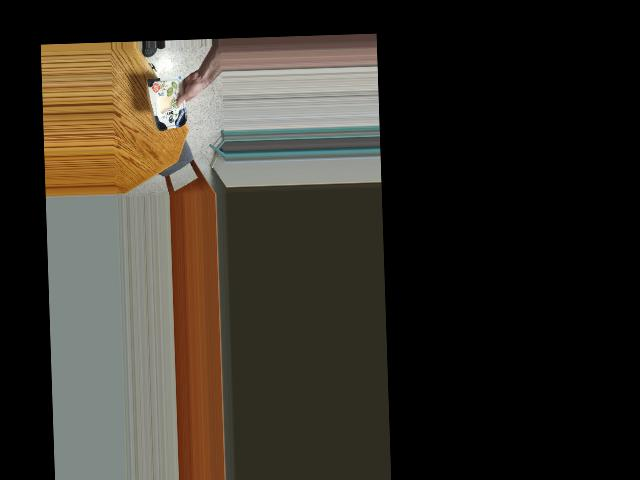cheese: (149, 82, 187, 132)
